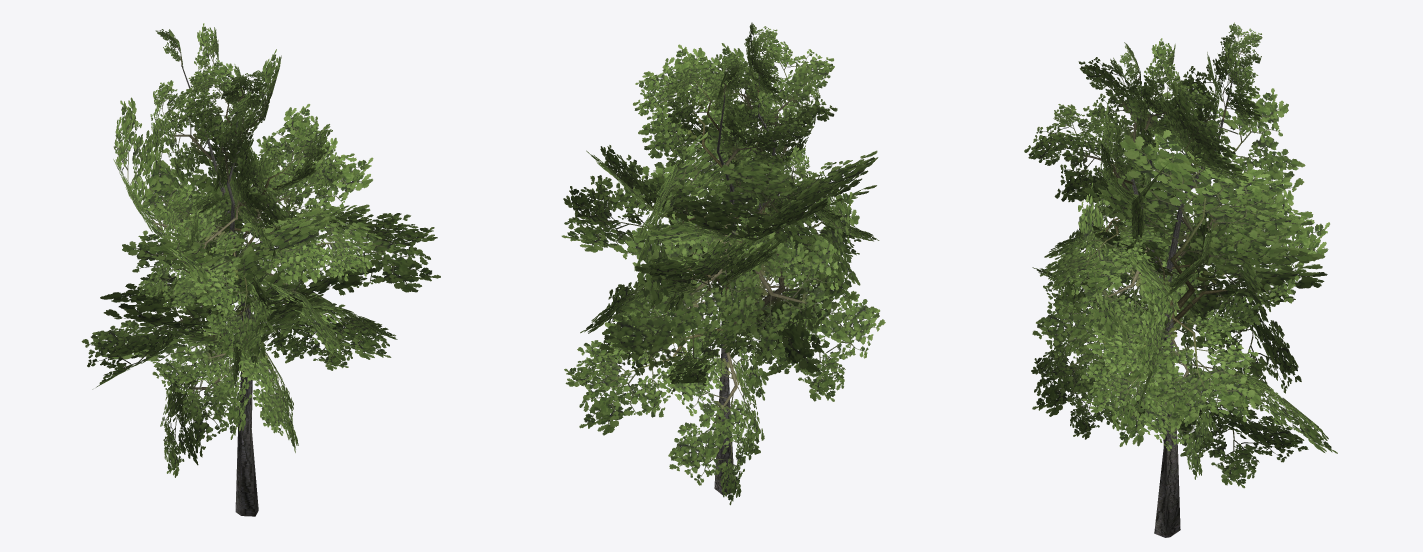
Rendered from tree17.fbx.
3 renders of one model, left to right at view 1: azimuth 30°, elevation 25°; view 2: azimuth 150°, elevation 25°; view 3: azimuth 270°, elevation 25°, orthographic. The views are drawn at different scales.
Visible parts, largest first — view 1: Tree-03-3; view 2: Tree-03-3; view 3: Tree-03-3.
Part boxes in pixels (x1,y1,x2,y2): Tree-03-3: (81,23,440,516); Tree-03-3: (561,22,885,505); Tree-03-3: (1024,22,1337,537).
Bounding box in the file's own units: 667 × 761 × 568.
